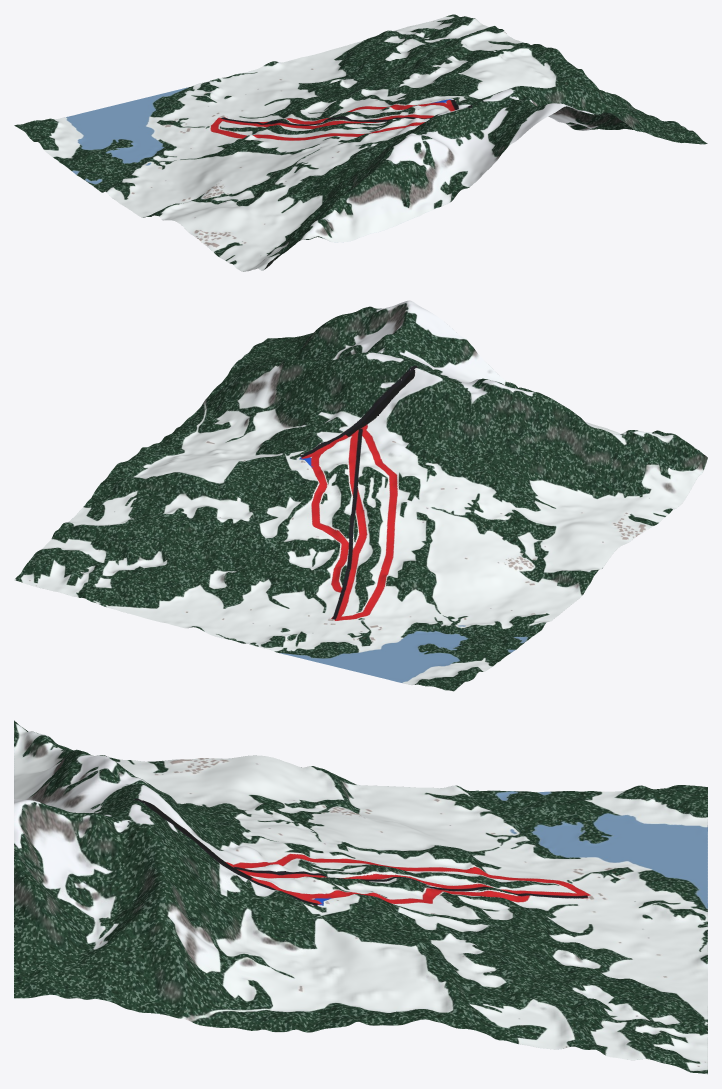
3 views of the same model, one above another, from view 1: azimuth 30°, elevation 25°; view 2: azimuth 150°, elevation 25°; view 3: azimuth 270°, elevation 25° (orthographic). The views are drawn at different scales.
Visible parts, largest first — view 1: G2_Buronlifte.glb; view 2: G2_Buronlifte.glb; view 3: G2_Buronlifte.glb.
Boxes of the visible parts, x1,y1,x2,y2 form: G2_Buronlifte.glb: (14,14,707,271); G2_Buronlifte.glb: (14,300,707,691); G2_Buronlifte.glb: (14,720,707,1074).
Size of the model in its own units: 2766 by 829 by 2766.
1 material, 1 textured.
